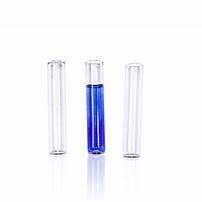Test tube: (37, 56, 68, 165), (80, 62, 114, 160), (122, 51, 148, 164)
